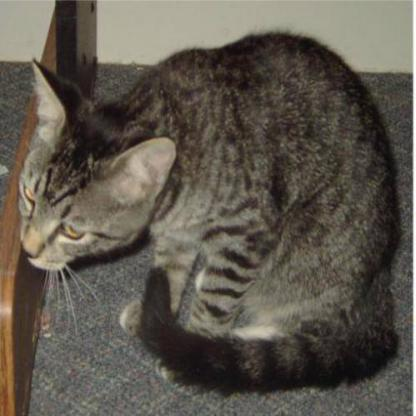cat: (14, 31, 378, 356)
